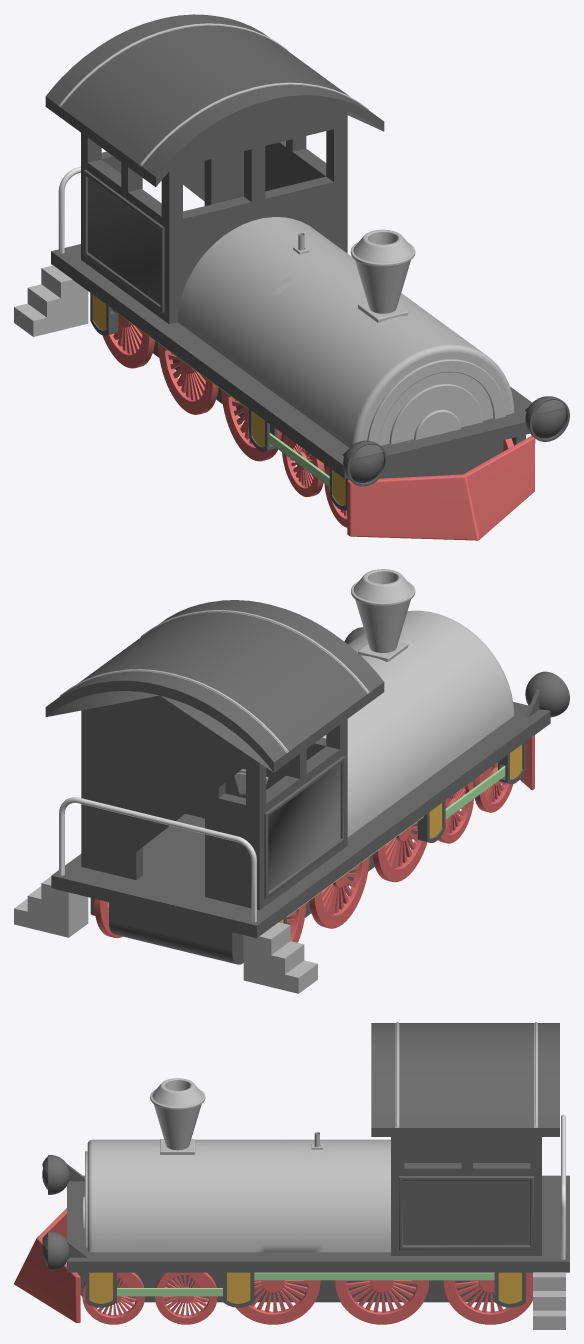
The model's file is LocomotiveNew.fbx.
The picture shows the model from 3 angles, top to bottom: view 1: azimuth 30°, elevation 25°; view 2: azimuth 150°, elevation 25°; view 3: azimuth 270°, elevation 25°; orthographic projection. The views are drawn at different scales.
Parts seen in each view (by area): view 1: Locomotive, Cabine, Toit, Pare_neige, Marche_2, Roue_5, Roue_6, Oeil_G_, Oeil_D, Roue_4, Roue_10, Cylindre_4 (+2 smaller); view 2: Cabine, Toit, Locomotive, Marche_2, Marche_1, Roue_5, Rambarde, Roue_4, Oeil_D, Roue_10, Roue_9, Cylindre_2 (+2 smaller); view 3: Locomotive, Cabine, Toit, Pare_neige, Roue_2, Roue_3, Roue_1, Roue_7, Bielle_1, Marche_1, Roue_8, Cylindre_3 (+6 smaller).
Part boxes in pixels (x1,y1,x2,y2): Locomotive: (177, 217, 514, 447); Cabine: (51, 105, 531, 478); Toit: (45, 14, 384, 186); Pare_neige: (347, 435, 535, 540); Marche_2: (14, 265, 88, 336); Roue_5: (158, 343, 218, 414); Roue_6: (102, 314, 154, 368); Oeil_G_: (525, 396, 569, 441); Oeil_D: (343, 440, 387, 486); Roue_4: (221, 389, 281, 461); Roue_10: (282, 435, 324, 497); Cylindre_4: (90, 293, 118, 335); Cabine: (51, 695, 550, 964); Toit: (45, 600, 384, 772); Locomotive: (234, 569, 514, 837); Marche_2: (243, 922, 317, 993); Marche_1: (14, 876, 88, 937); Roue_5: (309, 857, 369, 928); Rambarde: (59, 797, 256, 922); Roue_4: (372, 822, 427, 882); Oeil_D: (525, 671, 569, 717); Roue_10: (438, 781, 473, 843); Roue_9: (473, 762, 513, 812); Cylindre_2: (417, 800, 445, 842); Locomotive: (82, 1078, 390, 1252); Cabine: (67, 1137, 569, 1302); Toit: (371, 1022, 559, 1136); Pare_neige: (14, 1208, 80, 1322); Roue_2: (335, 1280, 428, 1324); Roue_3: (236, 1280, 320, 1324); Roue_1: (443, 1272, 532, 1324); Roue_7: (155, 1272, 217, 1324); Bielle_1: (254, 1272, 494, 1280); Marche_1: (533, 1272, 565, 1329); Roue_8: (82, 1272, 144, 1324); Cylindre_3: (494, 1272, 525, 1307).
Bounding box in the file's own units: 125 × 125 × 246.
